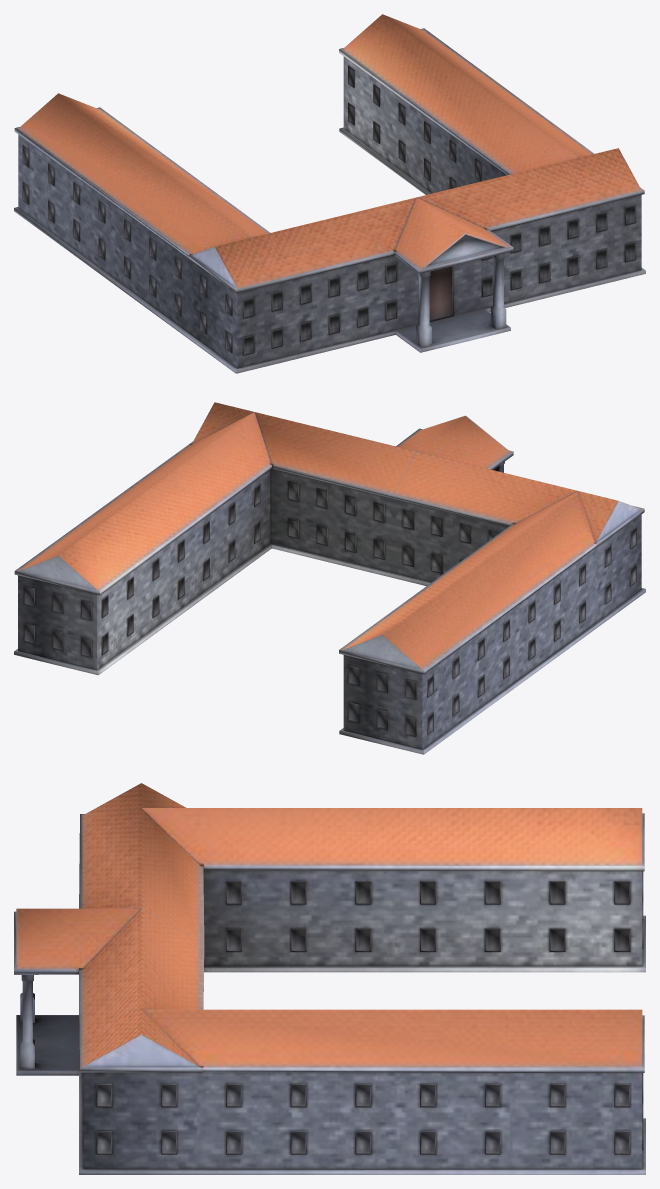
Rendered from University.glb.
3 views of the same model, one above another, from view 1: azimuth 30°, elevation 25°; view 2: azimuth 150°, elevation 25°; view 3: azimuth 270°, elevation 25° (orthographic). The views are drawn at different scales.
Parts seen in each view (by area): view 1: 2; view 2: 2; view 3: 2.
Boxes of the visible parts, left/top/right/bottom form: 2: left=14, top=14, right=645, bottom=373; 2: left=14, top=402, right=645, bottom=754; 2: left=14, top=783, right=645, bottom=1174.
Size of the model in its own units: 13.63 by 3.45 by 14.26.
Materials: 1 (1 with a texture image).
